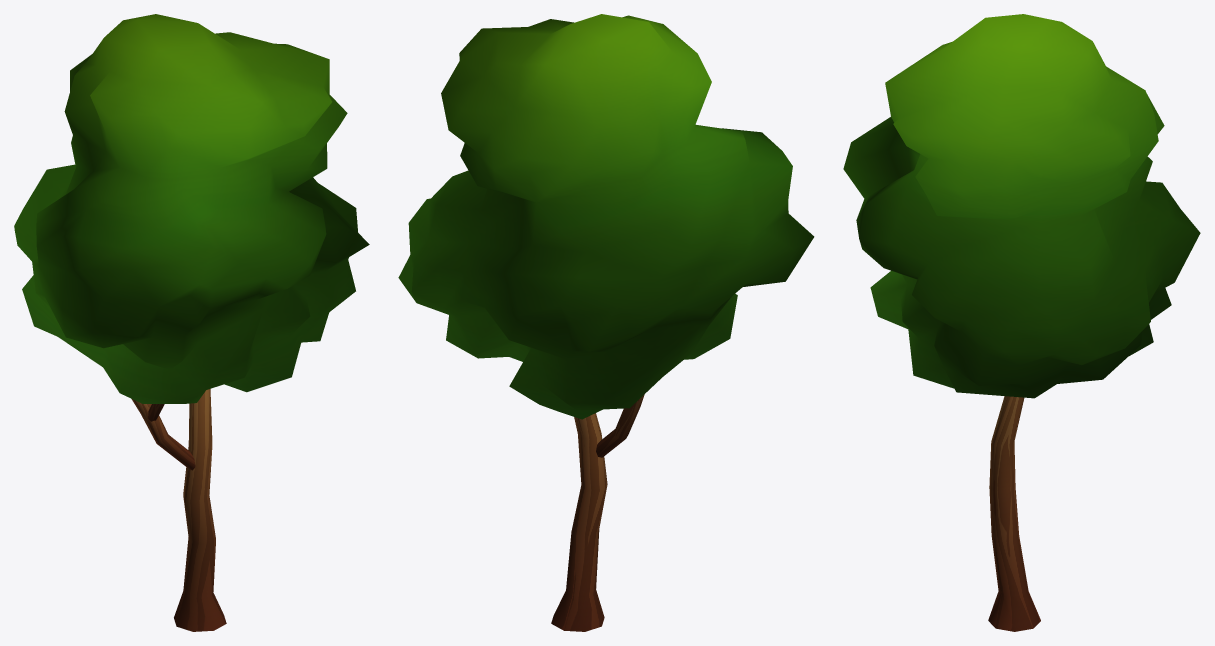
Rendered from SM_Tree_05.fbx.
The picture shows the model from 3 angles, left to right: view 1: azimuth 30°, elevation 25°; view 2: azimuth 150°, elevation 25°; view 3: azimuth 270°, elevation 25°; orthographic projection. The views are drawn at different scales.
Visible parts, largest first — view 1: SM_Tree_05_LOD0; view 2: SM_Tree_05_LOD0; view 3: SM_Tree_05_LOD0.
Boxes of the visible parts, x1,y1,x2,y2 form: SM_Tree_05_LOD0: (14, 14, 369, 631); SM_Tree_05_LOD0: (398, 14, 814, 631); SM_Tree_05_LOD0: (843, 14, 1200, 631).
Size of what is drawn, in the model's own units: 2.32 by 4.03 by 2.25.
